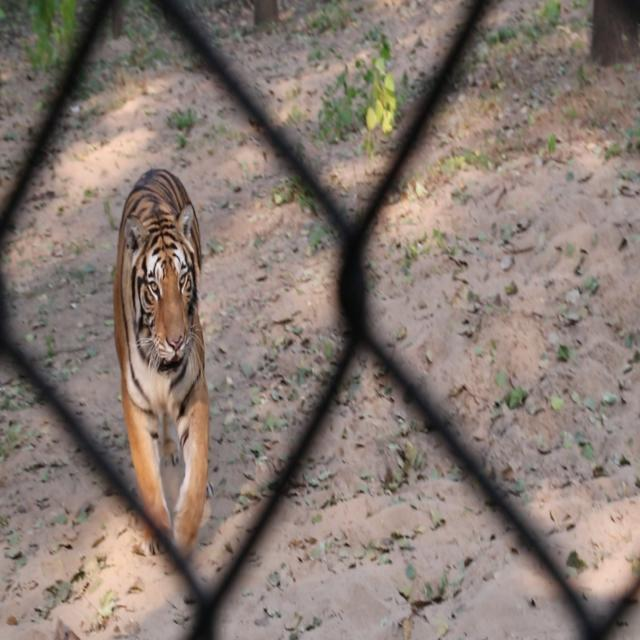Tiger: (90, 131, 233, 572)
